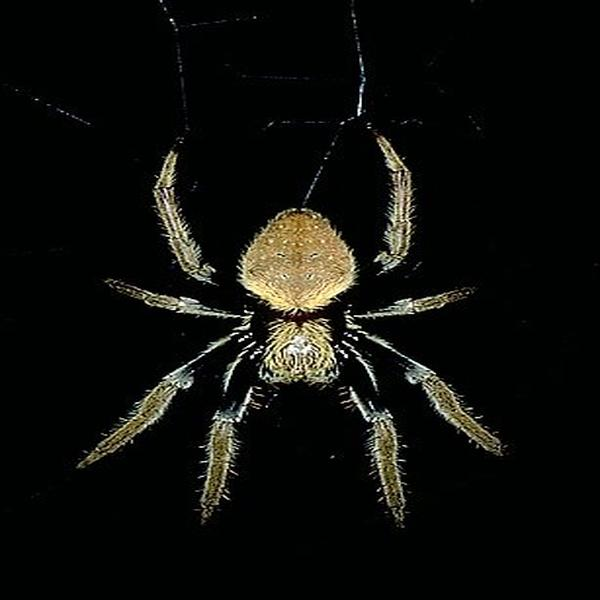Garden Orb Weaver Spider: (101, 152, 496, 523)
